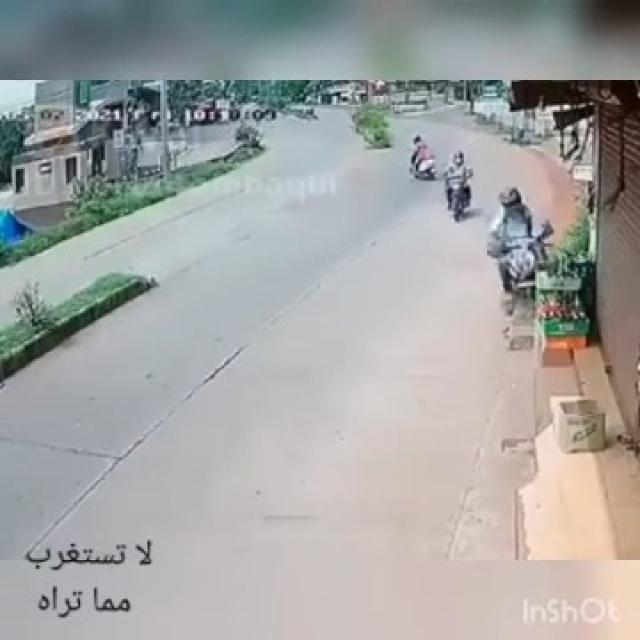accident: (473, 185, 576, 347)
